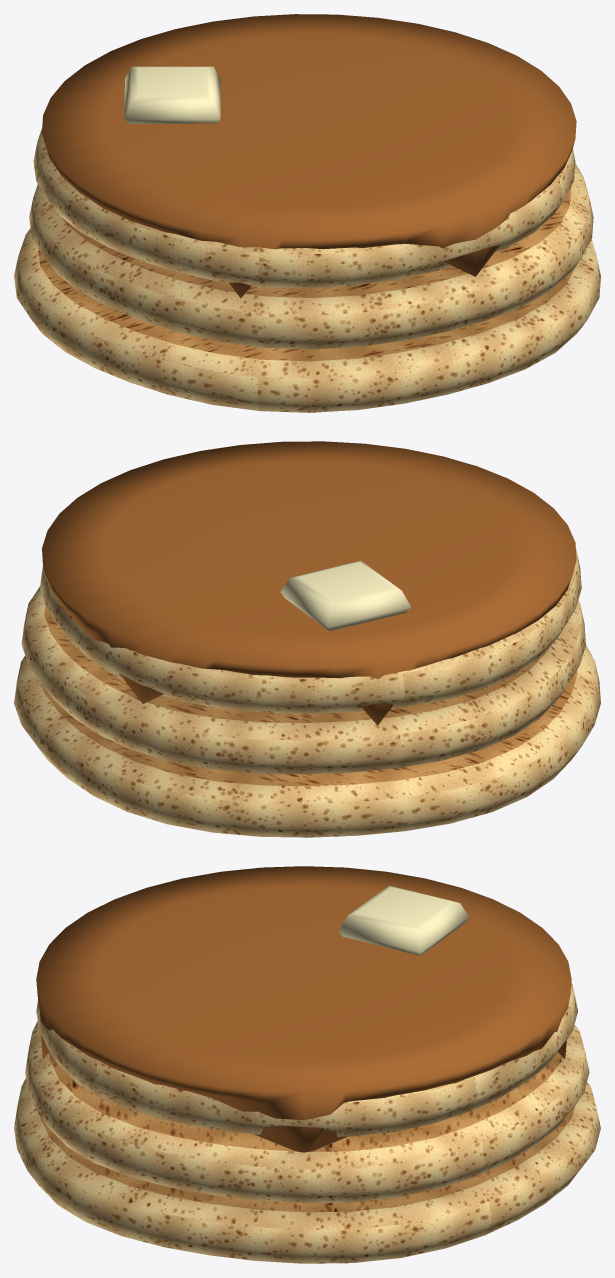
The model's file is pancake.glb.
3 views of the same model, one above another, from view 1: azimuth 30°, elevation 25°; view 2: azimuth 150°, elevation 25°; view 3: azimuth 270°, elevation 25° (orthographic).
Visible parts, largest first — view 1: pancake; view 2: pancake; view 3: pancake.
Boxes of the visible parts, <box> form: pancake: <box>14,14,600,412</box>; pancake: <box>14,441,600,837</box>; pancake: <box>14,866,600,1263</box>.
Bounding box in the file's own units: 1.96 × 0.7449 × 1.96.
Materials: 4 (2 with a texture image).
